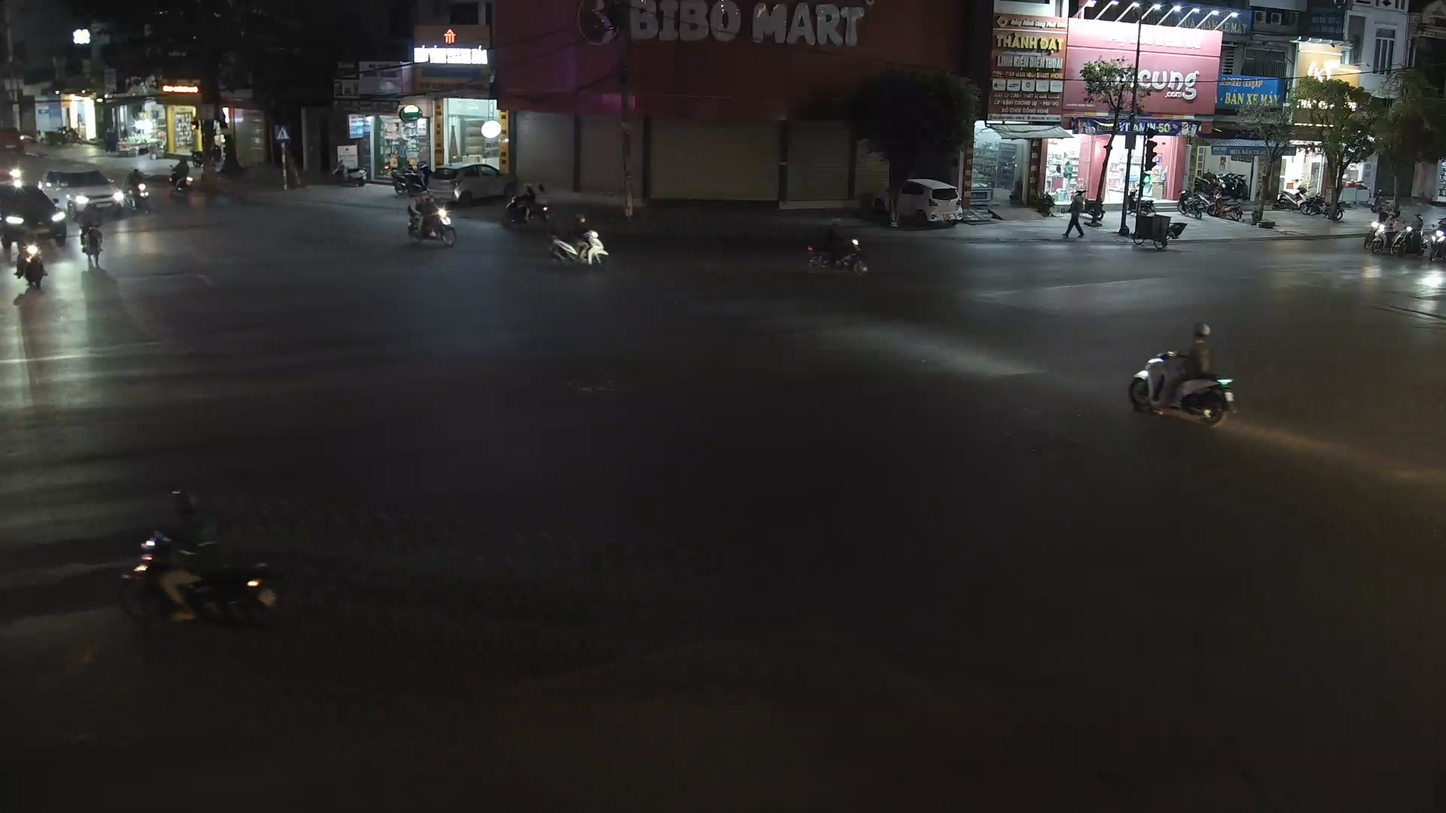motorbike: (1126, 320, 1238, 427), (547, 209, 610, 270), (804, 221, 870, 278), (404, 186, 459, 249), (501, 179, 552, 231), (75, 199, 108, 271), (9, 241, 48, 293)
